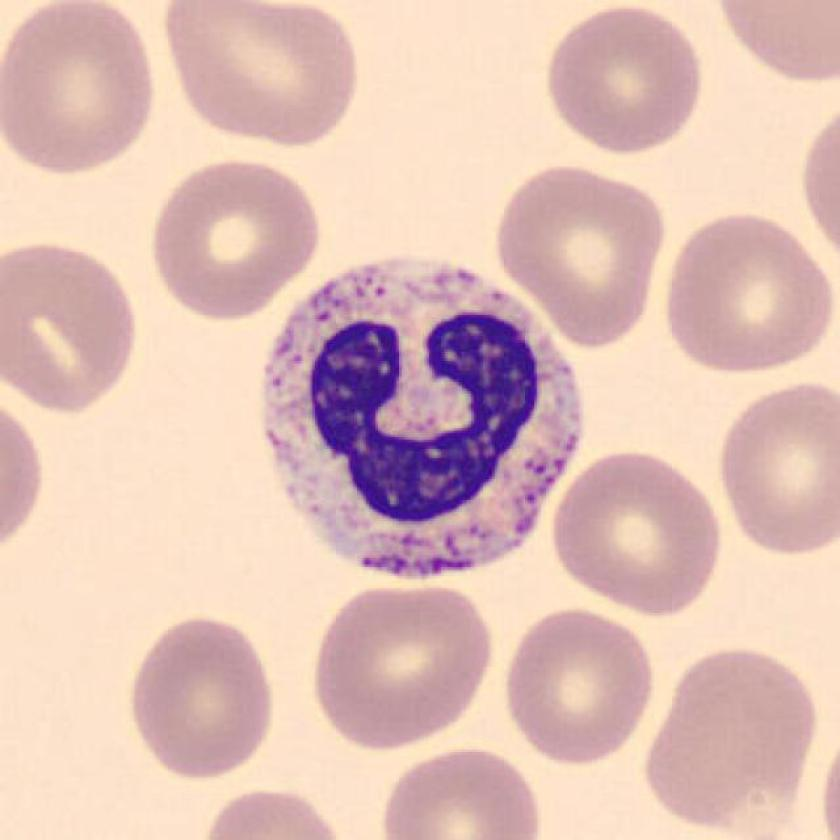neutrophil: (265, 260, 584, 579)
